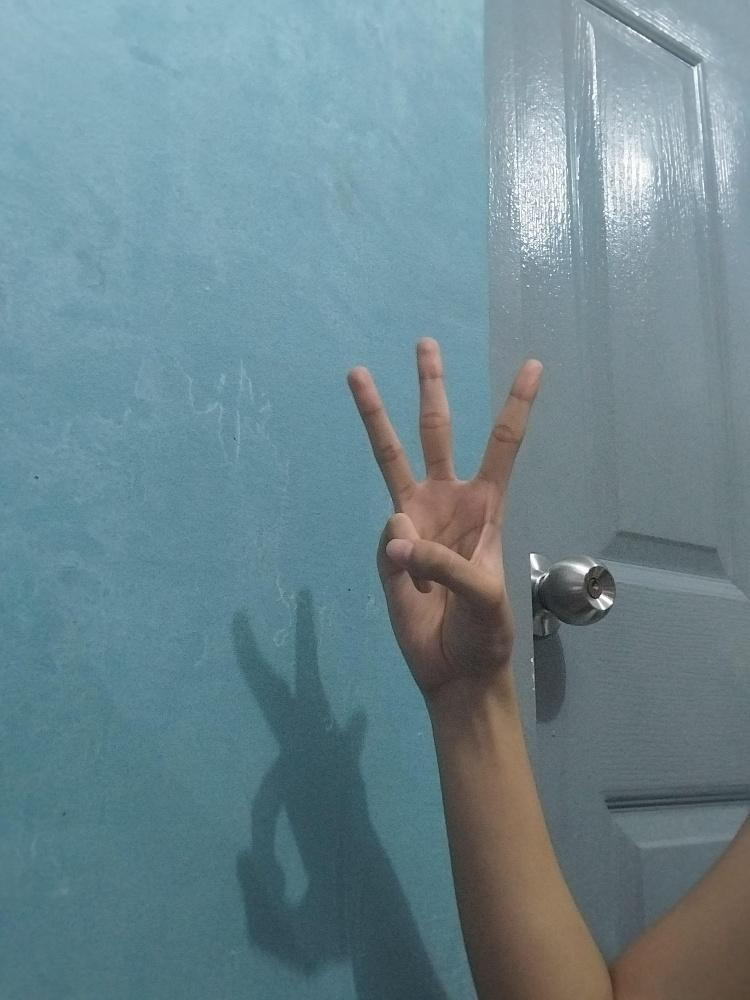w: (346, 338, 544, 663)
